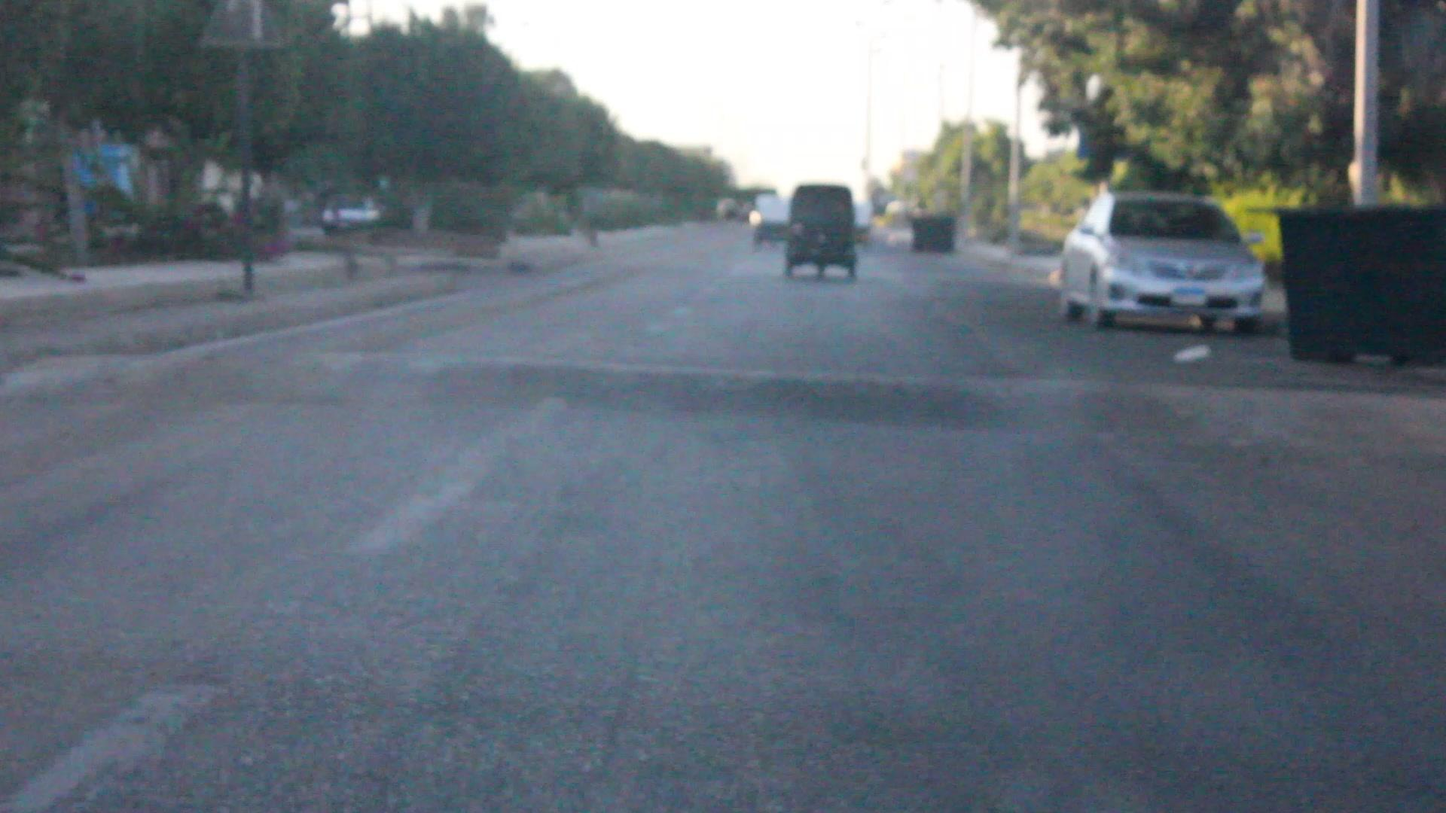Bump: (130, 345, 1445, 456)
